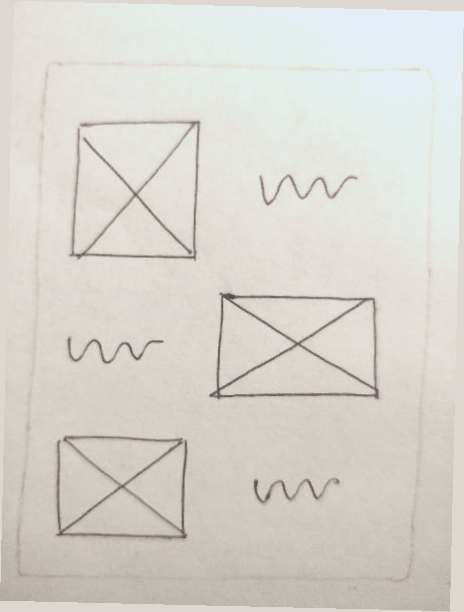image: (204, 284, 393, 413), (62, 111, 209, 269), (44, 426, 198, 546)
text: (246, 152, 370, 222), (54, 318, 171, 375), (233, 463, 356, 516)
